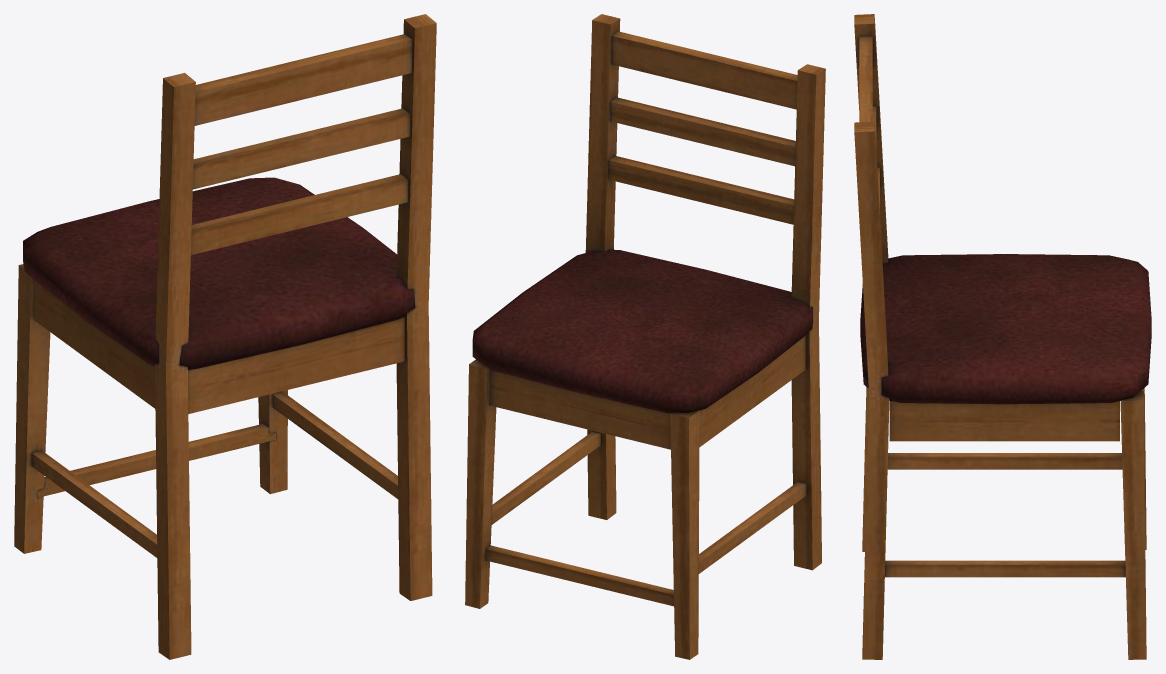
The model's file is chair_ladder_lod1_web.glb.
3 views of the same model, side by side, from view 1: azimuth 30°, elevation 25°; view 2: azimuth 150°, elevation 25°; view 3: azimuth 270°, elevation 25° (orthographic). The views are drawn at different scales.
Visible parts, largest first — view 1: ChairLadder_Mesh; view 2: ChairLadder_Mesh; view 3: ChairLadder_Mesh.
Part boxes in pixels (x1,y1,x2,y2): ChairLadder_Mesh: (14, 14, 436, 659); ChairLadder_Mesh: (465, 14, 825, 659); ChairLadder_Mesh: (854, 14, 1151, 659).
Bounding box in the file's own units: 0.44 × 0.8613 × 0.439.
Materials: 1 (1 with a texture image).
